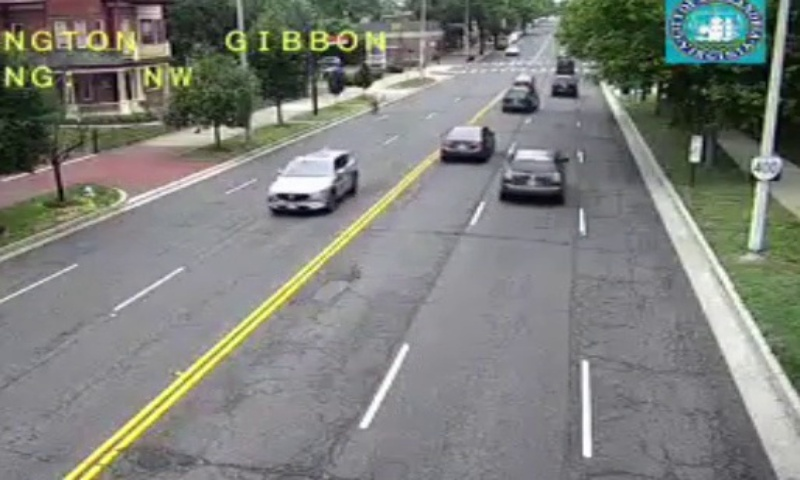car: (501, 149, 563, 194), (440, 127, 493, 160), (501, 87, 533, 109)
